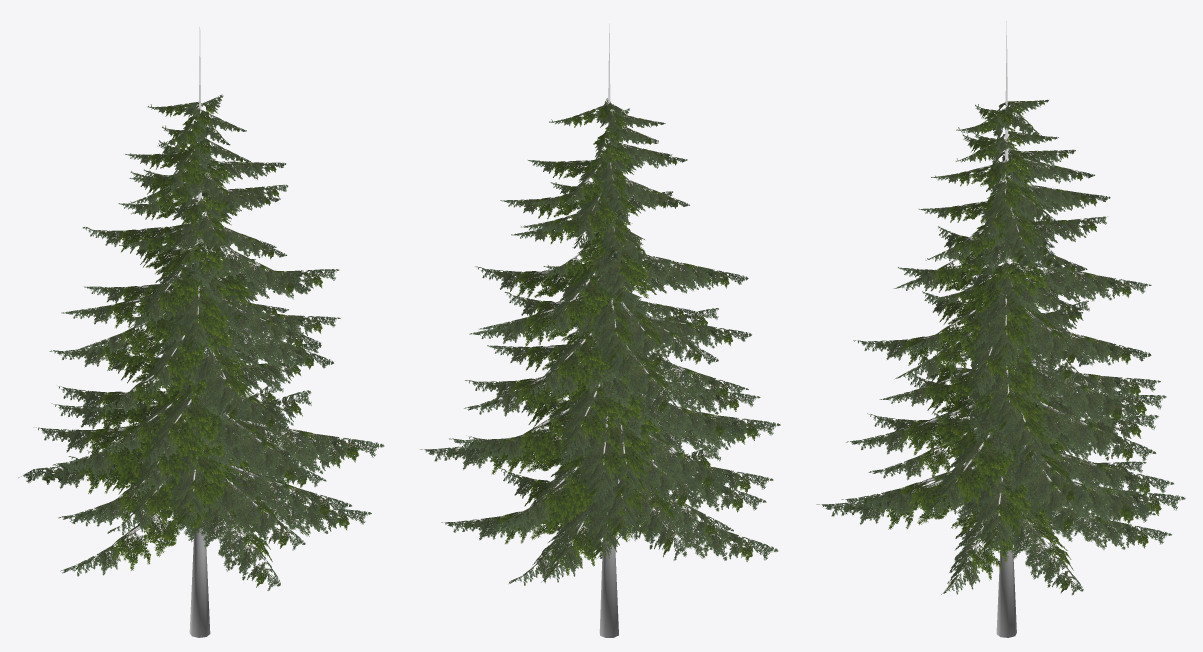
File: Tree2.012.fbx
3 views of the same model, side by side, from view 1: azimuth 30°, elevation 25°; view 2: azimuth 150°, elevation 25°; view 3: azimuth 270°, elevation 25° (orthographic).
Visible parts, largest first — view 1: Tree2.012; view 2: Tree2.012; view 3: Tree2.012.
Boxes of the visible parts, box(x1,y1,x2,y2) form: Tree2.012: box(18, 27, 384, 637); Tree2.012: box(420, 23, 780, 637); Tree2.012: box(816, 21, 1185, 637).
Size of the model in its own units: 1.6 by 3.02 by 1.66.
